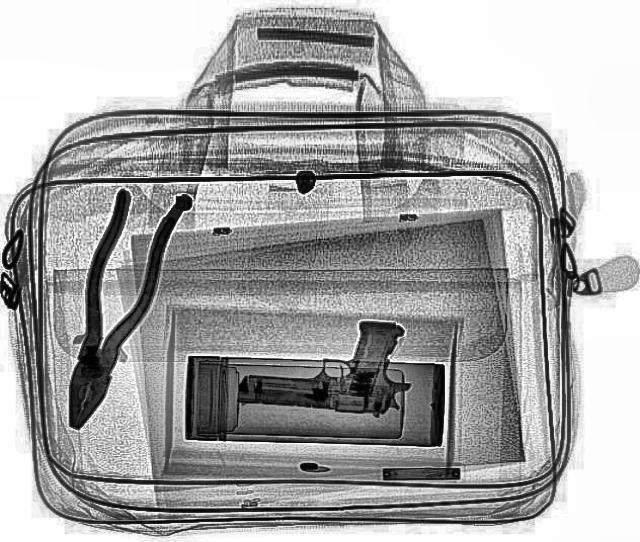Gun: (233, 312, 415, 418)
Pliers: (39, 189, 182, 433)
